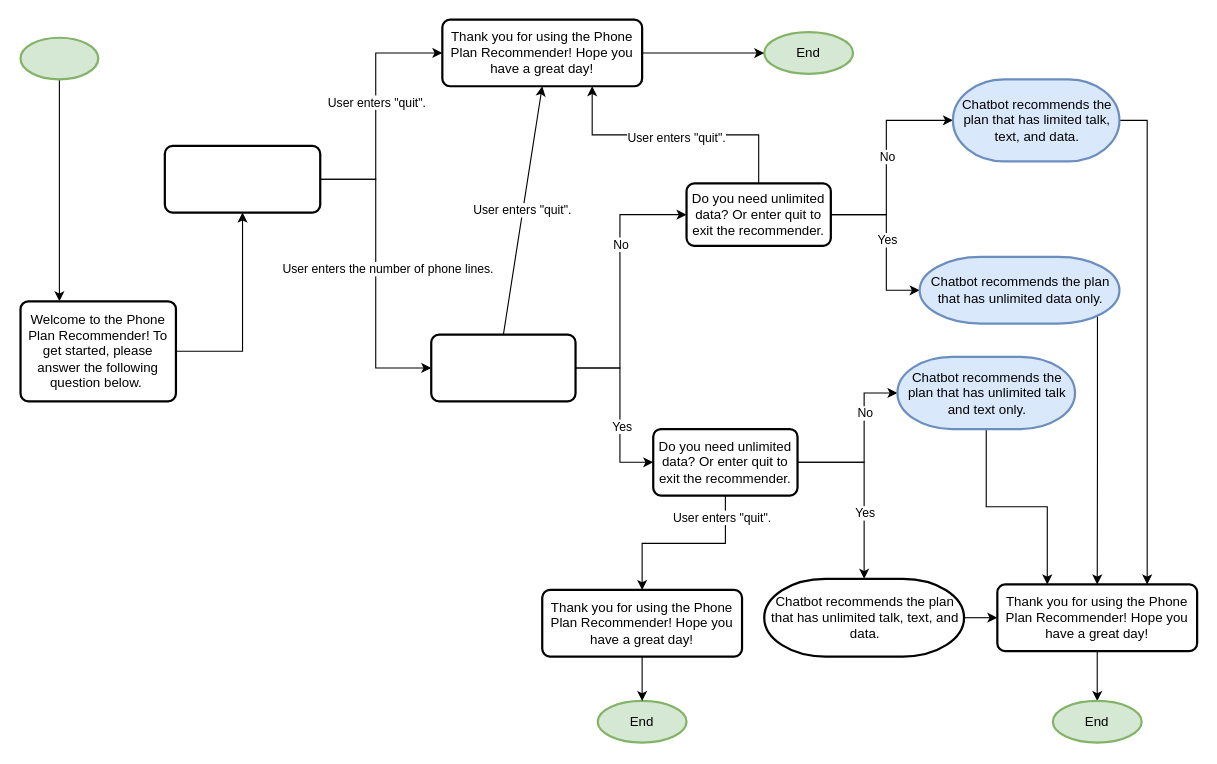
The diagram is 1217 pixels wide and 764 high, and some of its shapes have lost their labels. Each missing label, with the centre of its shape:
"Do you need unlimited talk and text? Or enter quit to exit the recommender." goes at (x=503, y=367).
"How many phone lines do you need? Or enter quit to exit the recommender." goes at (x=242, y=178).
"Start" goes at (x=59, y=58).
